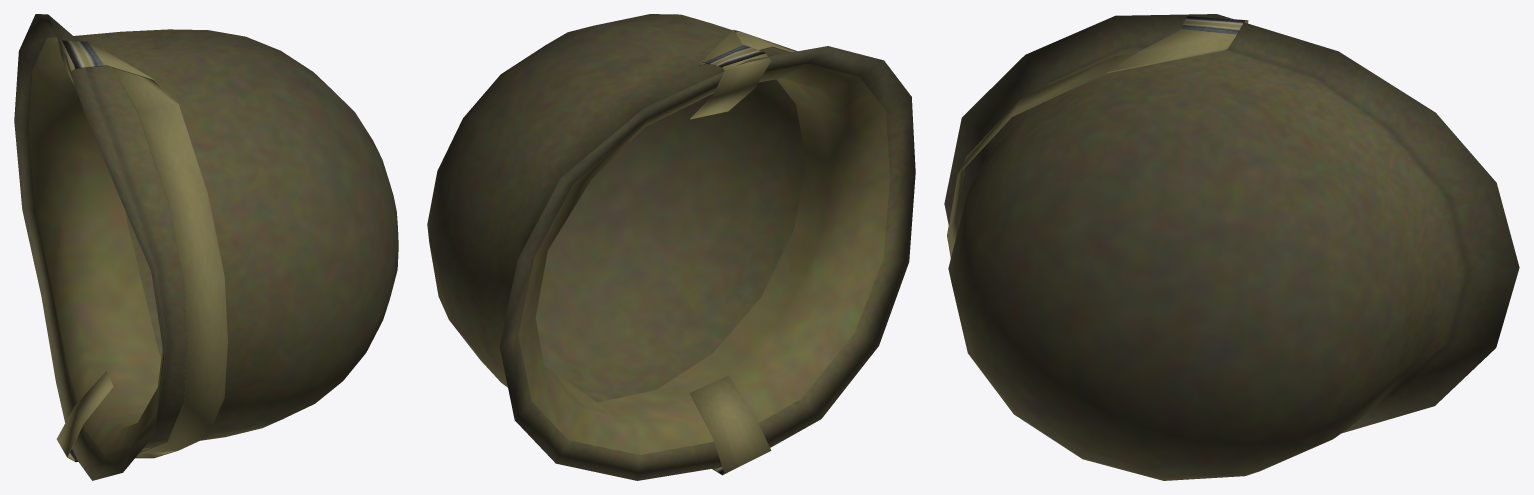
File: M1HelmetStrapless.fbx
3 renders of one model, left to right at view 1: azimuth 30°, elevation 25°; view 2: azimuth 150°, elevation 25°; view 3: azimuth 270°, elevation 25°, orthographic. The views are drawn at different scales.
Parts seen in each view (by area): view 1: Cube.004; view 2: Cube.004; view 3: Cube.004.
Part boxes in pixels (x1=…): Cube.004: x1=14, y1=14, x2=398, y2=480; Cube.004: x1=427, y1=14, x2=915, y2=480; Cube.004: x1=944, y1=14, x2=1519, y2=480.
Size of the model in its own units: 0.1992 by 0.1362 by 0.1581.
